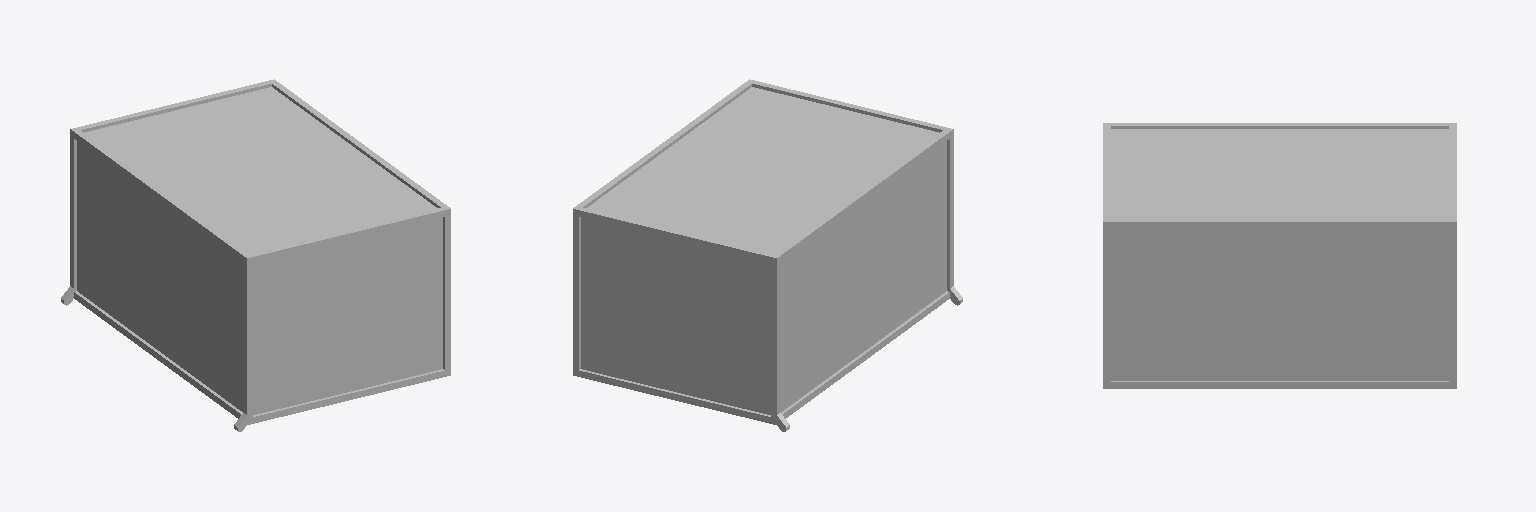
File: SpecialTableCasing.obj
3 renders of one model, left to right at view 1: azimuth 30°, elevation 25°; view 2: azimuth 150°, elevation 25°; view 3: azimuth 270°, elevation 25°, orthographic.
Visible parts, largest first — view 1: entity1_brush3, entity1_brush12, entity1_brush2, entity1_brush9, entity1_brush6, entity1_brush5, entity1_brush18, entity1_brush15, entity1_brush8, entity1_brush10, entity1_brush7, entity1_brush1; view 2: entity1_brush3, entity1_brush0, entity1_brush2, entity1_brush9, entity1_brush10, entity1_brush5, entity1_brush18, entity1_brush16, entity1_brush1, entity1_brush6, entity1_brush11, entity1_brush8; view 3: entity1_brush4, entity1_brush3, entity1_brush5, entity1_brush17, entity1_brush9, entity1_brush7, entity1_brush11, entity1_brush6, entity1_brush10.
Part boxes in pixels (left/top/right/bottom): entity1_brush3: left=85, top=87, right=436, bottom=253; entity1_brush12: left=253, top=217, right=442, bottom=414; entity1_brush2: left=77, top=141, right=242, bottom=411; entity1_brush9: left=70, top=128, right=252, bottom=264; entity1_brush6: left=250, top=208, right=444, bottom=263; entity1_brush5: left=269, top=79, right=450, bottom=216; entity1_brush18: left=74, top=291, right=242, bottom=418; entity1_brush15: left=253, top=369, right=444, bottom=423; entity1_brush8: left=243, top=263, right=252, bottom=424; entity1_brush10: left=77, top=81, right=271, bottom=132; entity1_brush7: left=443, top=216, right=450, bottom=376; entity1_brush1: left=70, top=136, right=76, bottom=291; entity1_brush3: left=587, top=87, right=938, bottom=253; entity1_brush0: left=581, top=217, right=770, bottom=414; entity1_brush2: left=781, top=141, right=946, bottom=411; entity1_brush9: left=771, top=128, right=953, bottom=264; entity1_brush10: left=579, top=208, right=773, bottom=263; entity1_brush5: left=573, top=79, right=754, bottom=216; entity1_brush18: left=781, top=291, right=949, bottom=418; entity1_brush16: left=579, top=369, right=770, bottom=423; entity1_brush1: left=771, top=263, right=780, bottom=424; entity1_brush6: left=752, top=81, right=946, bottom=132; entity1_brush11: left=573, top=216, right=580, bottom=376; entity1_brush8: left=947, top=136, right=953, bottom=291; entity1_brush4: left=1111, top=229, right=1448, bottom=380; entity1_brush3: left=1111, top=129, right=1448, bottom=218; entity1_brush5: left=1103, top=219, right=1456, bottom=228; entity1_brush17: left=1111, top=381, right=1448, bottom=388; entity1_brush9: left=1103, top=123, right=1456, bottom=128; entity1_brush7: left=1103, top=229, right=1110, bottom=388; entity1_brush11: left=1449, top=229, right=1456, bottom=388; entity1_brush6: left=1103, top=126, right=1110, bottom=218; entity1_brush10: left=1449, top=126, right=1456, bottom=218.
Bounding box in the file's own units: 67 × 51.5 × 96.